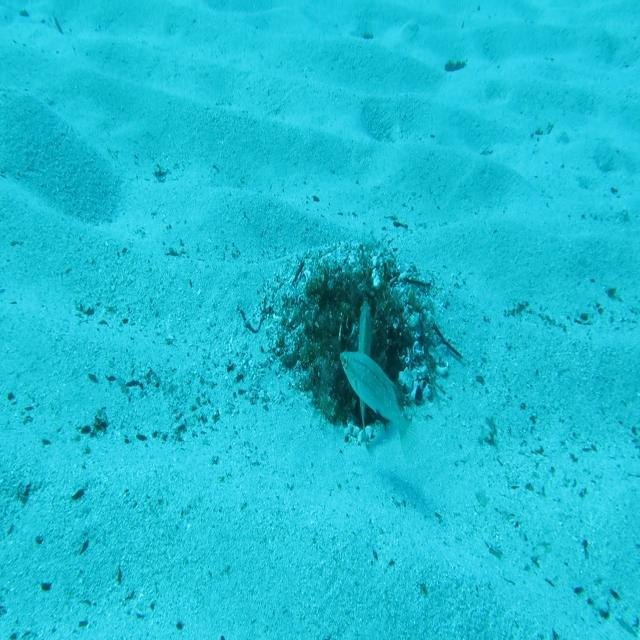FAN: (351, 298, 380, 454)
core_nest: (329, 282, 377, 314)
female: (338, 349, 424, 461)
nest: (254, 224, 452, 455)
vegetation: (442, 57, 465, 74)
